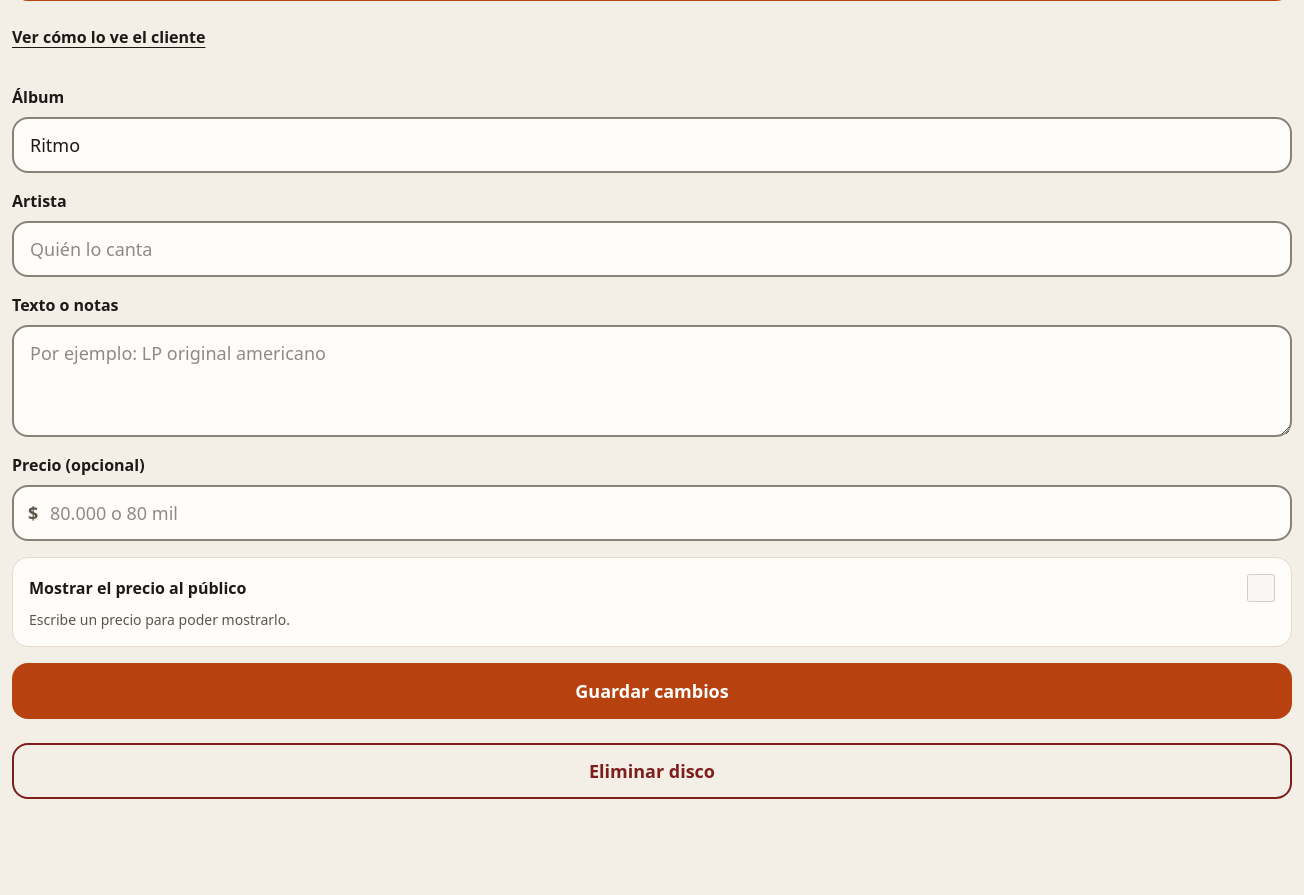
Test: RecordDetail › shows what is wrong with a field
The width and height of the screenshot is (1304, 895).
(page scrolled)
Click the button "Guardar cambios": (652, 691) [12, 663, 1292, 719]
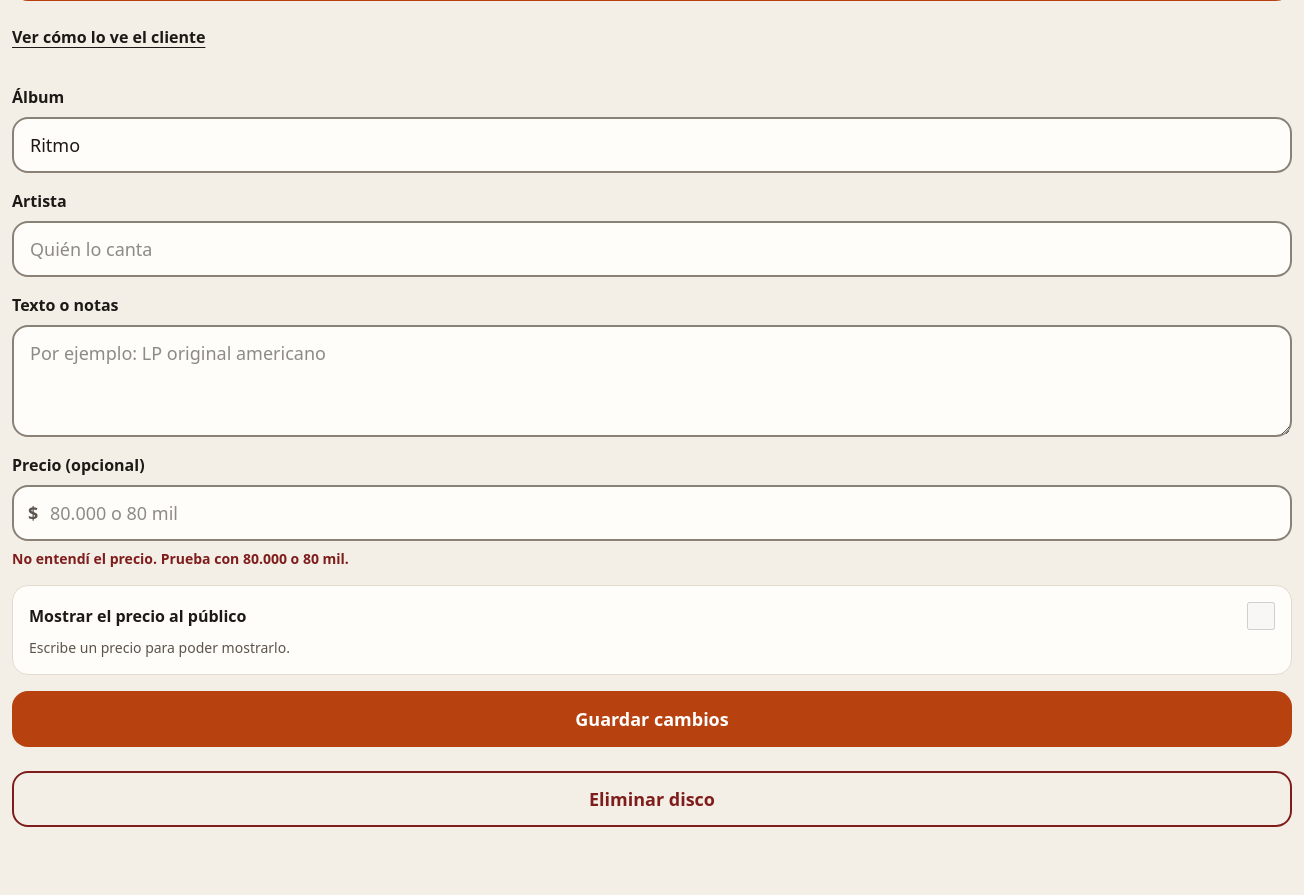
Expected: the text "No entendí el precio. Prueba con 80.000 o 80 mil." is shown, [12, 549, 349, 568]
